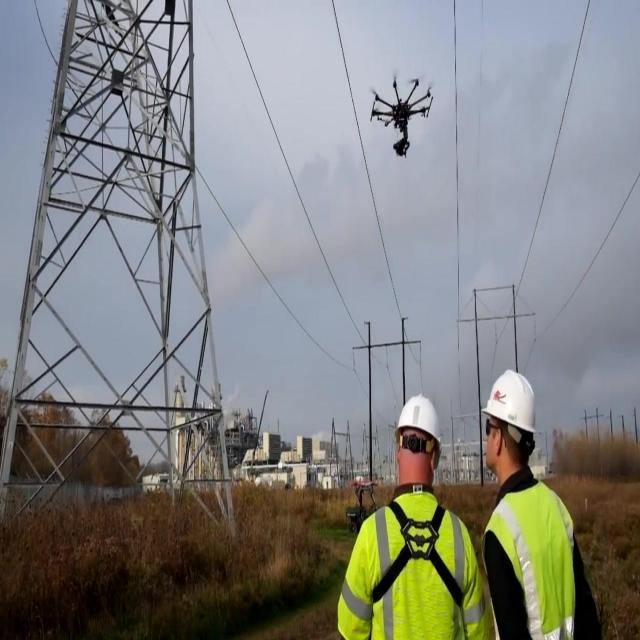UAV: (371, 76, 434, 158)
